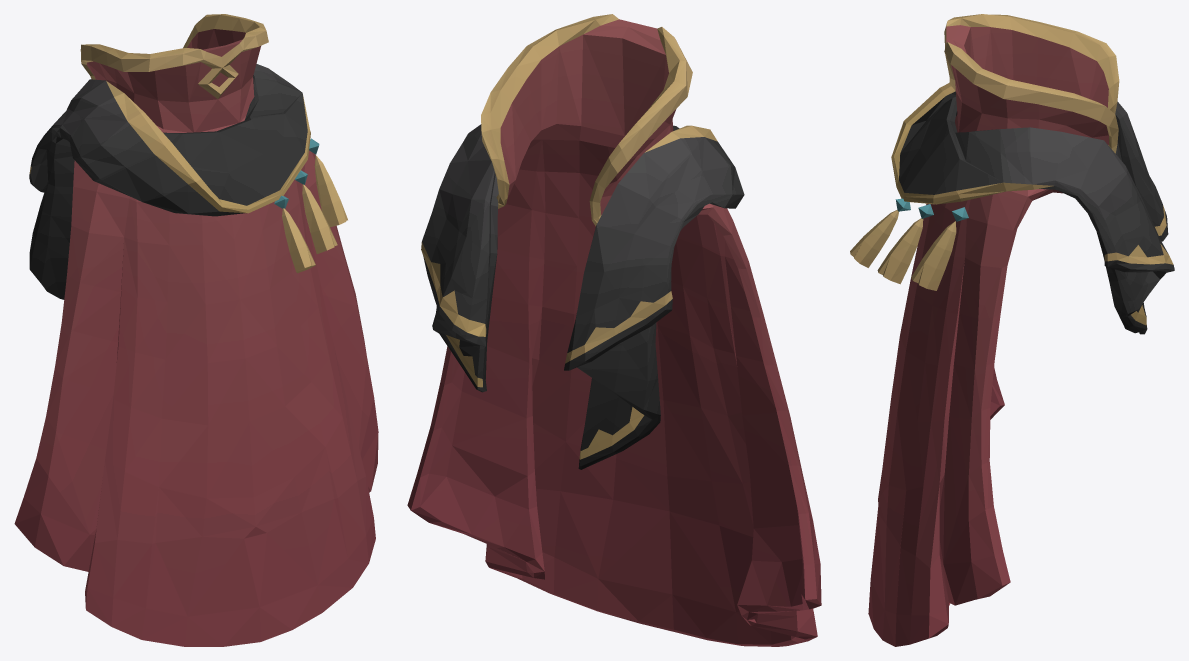
File: CharSkyKid_Wing_AP21KingCloak.glb
3 renders of one model, left to right at view 1: azimuth 30°, elevation 25°; view 2: azimuth 150°, elevation 25°; view 3: azimuth 270°, elevation 25°, orthographic. The views are drawn at different scales.
Visible parts, largest first — view 1: CharSkyKid_Wing_AP21KingCloak; view 2: CharSkyKid_Wing_AP21KingCloak; view 3: CharSkyKid_Wing_AP21KingCloak.
Part boxes in pixels (x1,y1,x2,y2): CharSkyKid_Wing_AP21KingCloak: (14,14,378,646); CharSkyKid_Wing_AP21KingCloak: (407,14,821,646); CharSkyKid_Wing_AP21KingCloak: (850,14,1174,646).
Bounding box in the file's own units: 6.62 × 9.96 × 5.03.
1 material, 1 textured.
